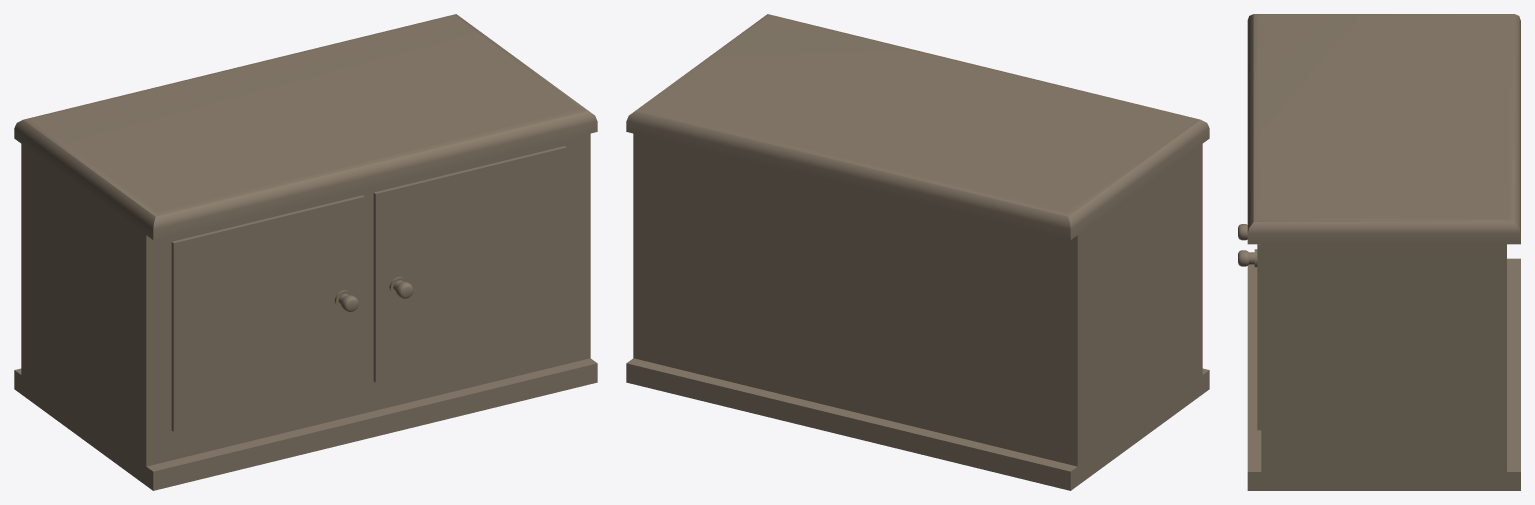
Rendered from station 2.fbx.
3 views of the same model, side by side, from view 1: azimuth 30°, elevation 25°; view 2: azimuth 150°, elevation 25°; view 3: azimuth 270°, elevation 25° (orthographic).
Visible parts, largest first — view 1: group2_cabinet_base1; view 2: group2_cabinet_base1; view 3: group2_cabinet_base1.
Part boxes in pixels (x1,y1,x2,y2): group2_cabinet_base1: [14, 14, 597, 490]; group2_cabinet_base1: [626, 14, 1209, 490]; group2_cabinet_base1: [1238, 14, 1520, 490].
Bounding box in the file's own units: 99.74 × 58.36 × 55.86.
